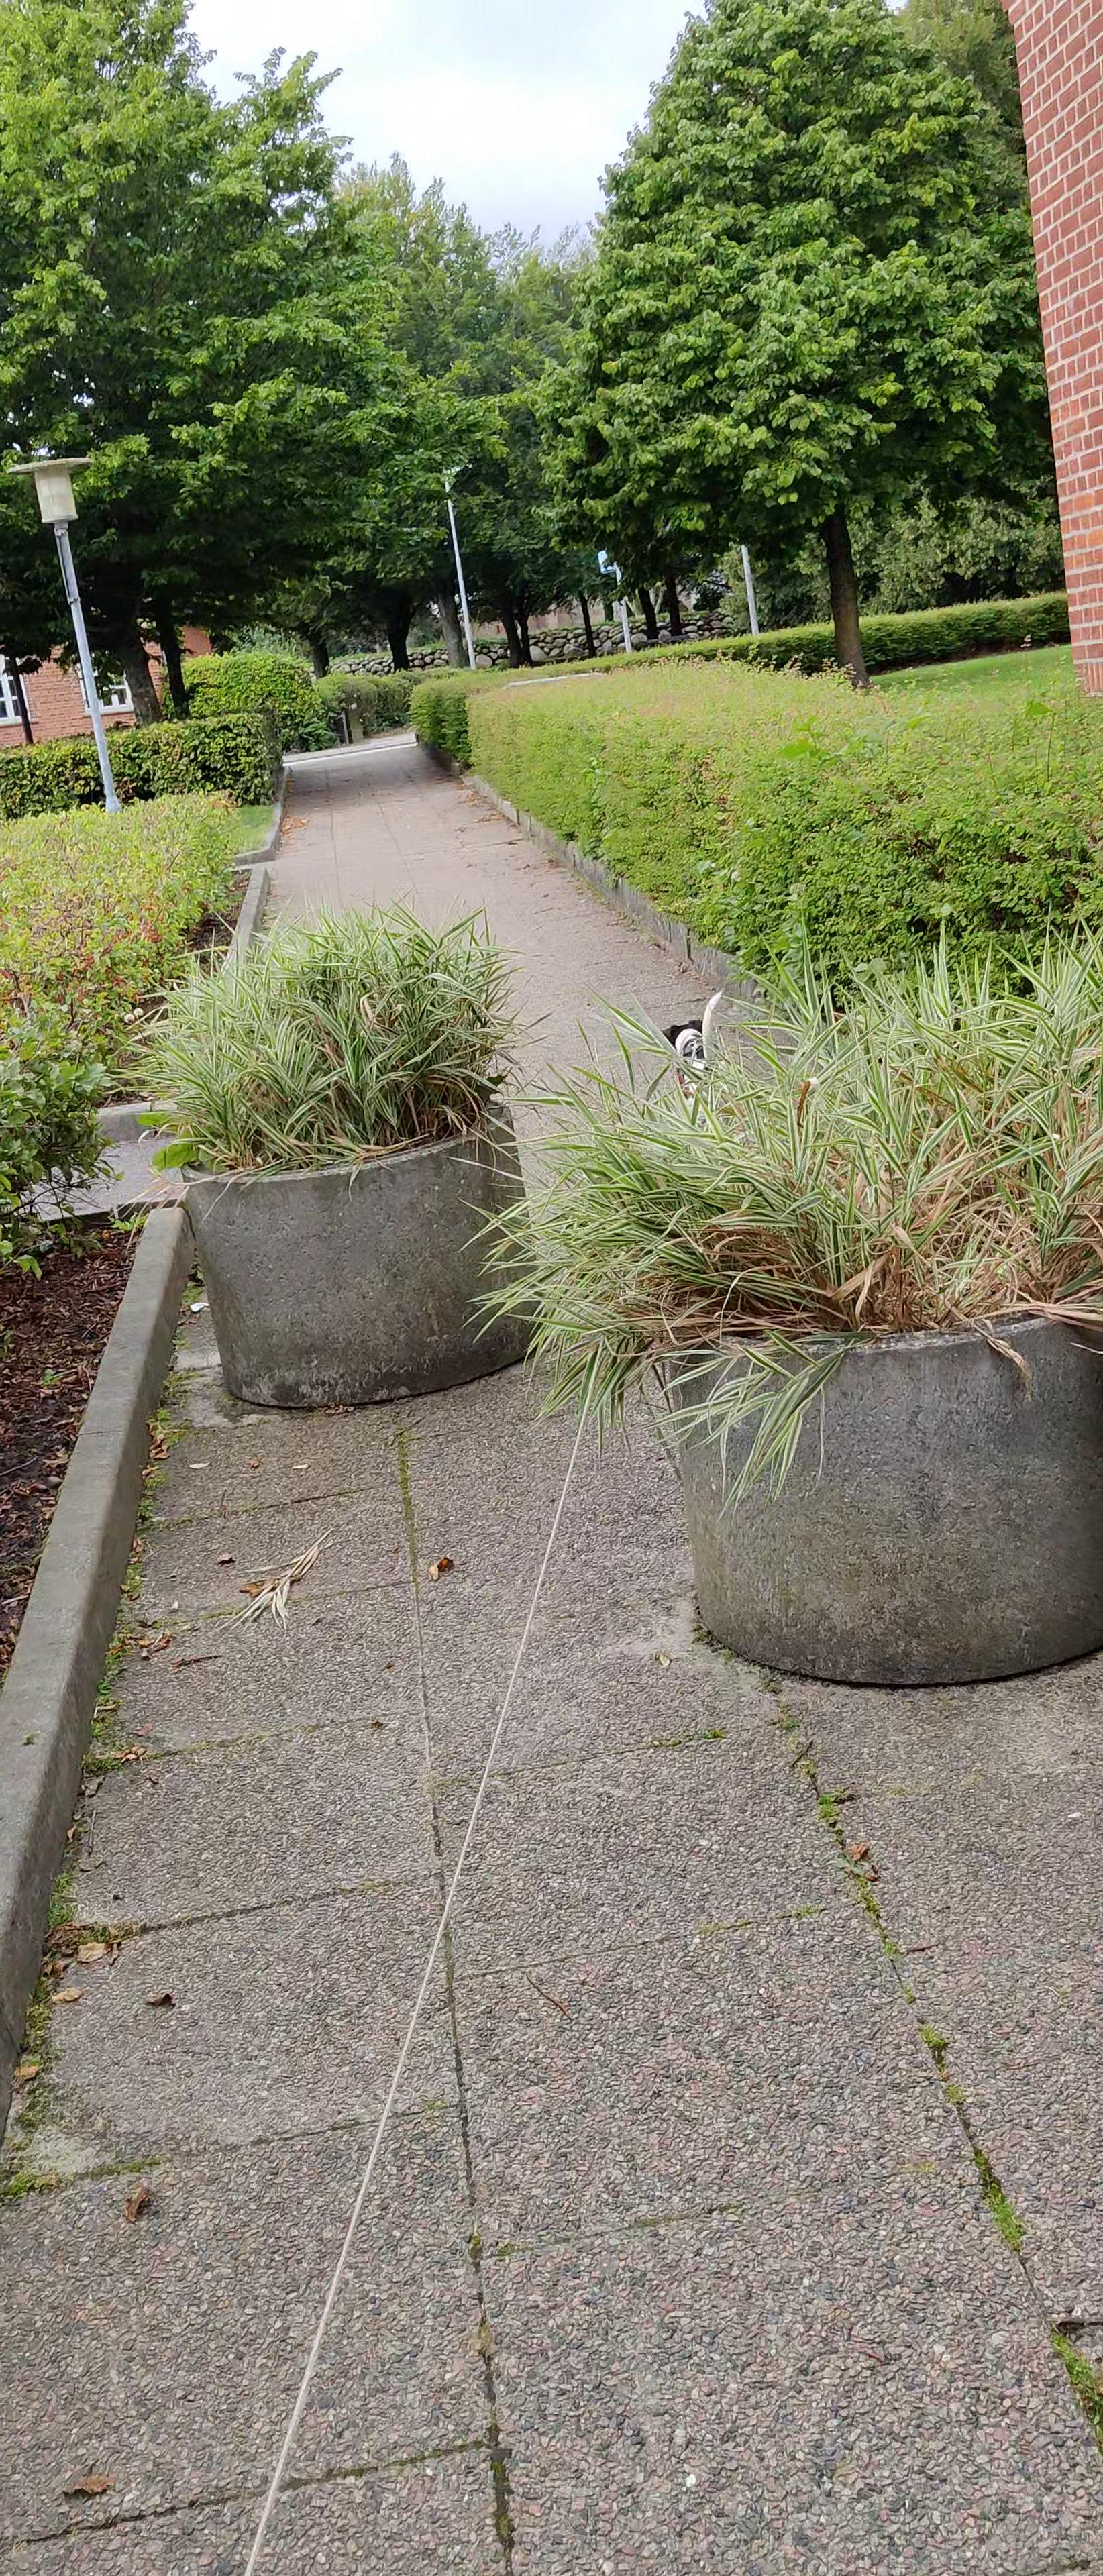Dog: (651, 984, 730, 1122)
